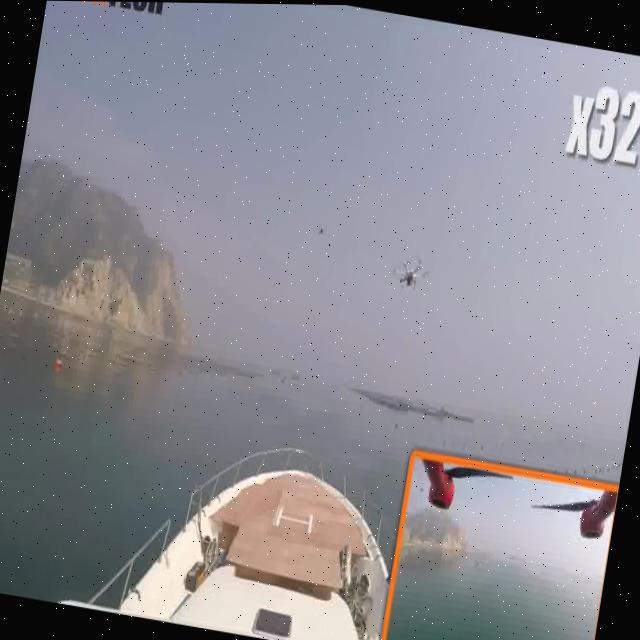drone: (384, 242, 436, 309)
